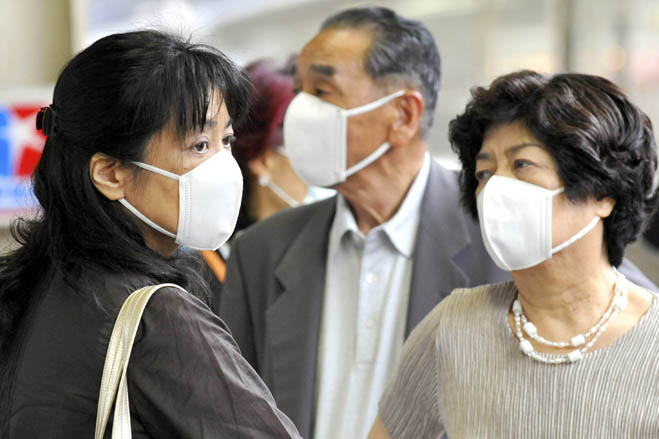mask: (472, 173, 565, 270), (166, 150, 244, 252)
